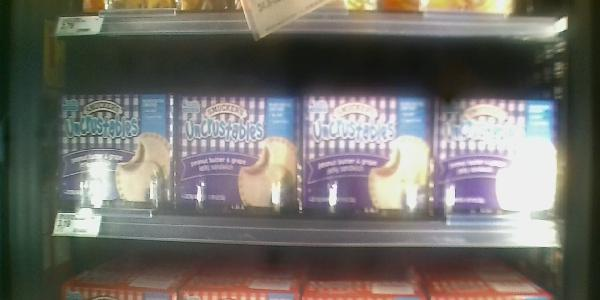icecream: (303, 85, 432, 221), (432, 92, 559, 223), (175, 89, 297, 218), (56, 91, 173, 214)
